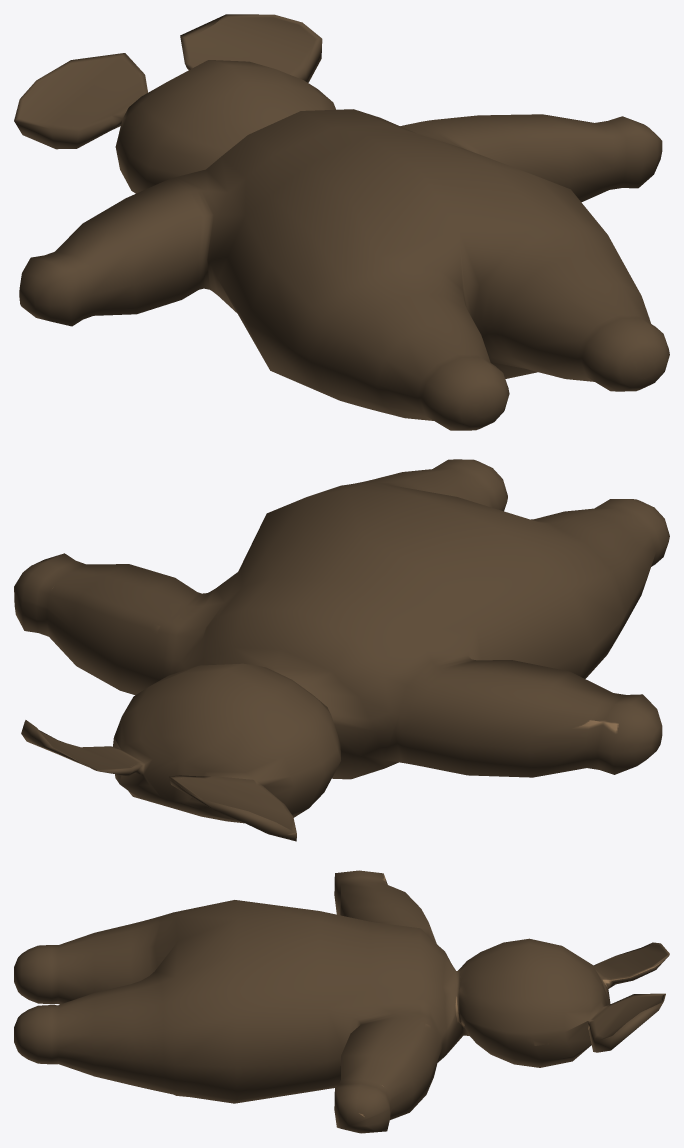
The model's file is fanny.fbx.
The picture shows the model from 3 angles, top to bottom: view 1: azimuth 30°, elevation 25°; view 2: azimuth 150°, elevation 25°; view 3: azimuth 270°, elevation 25°; orthographic projection. The views are drawn at different scales.
Parts seen in each view (by area): view 1: fanny.001; view 2: fanny.001; view 3: fanny.001.
Boxes of the visible parts, left/top/right/bottom form: fanny.001: left=14, top=14, right=669, bottom=430; fanny.001: left=14, top=459, right=669, bottom=841; fanny.001: left=14, top=870, right=669, bottom=1133.
Bounding box in the file's own units: 607 × 198 × 709.
